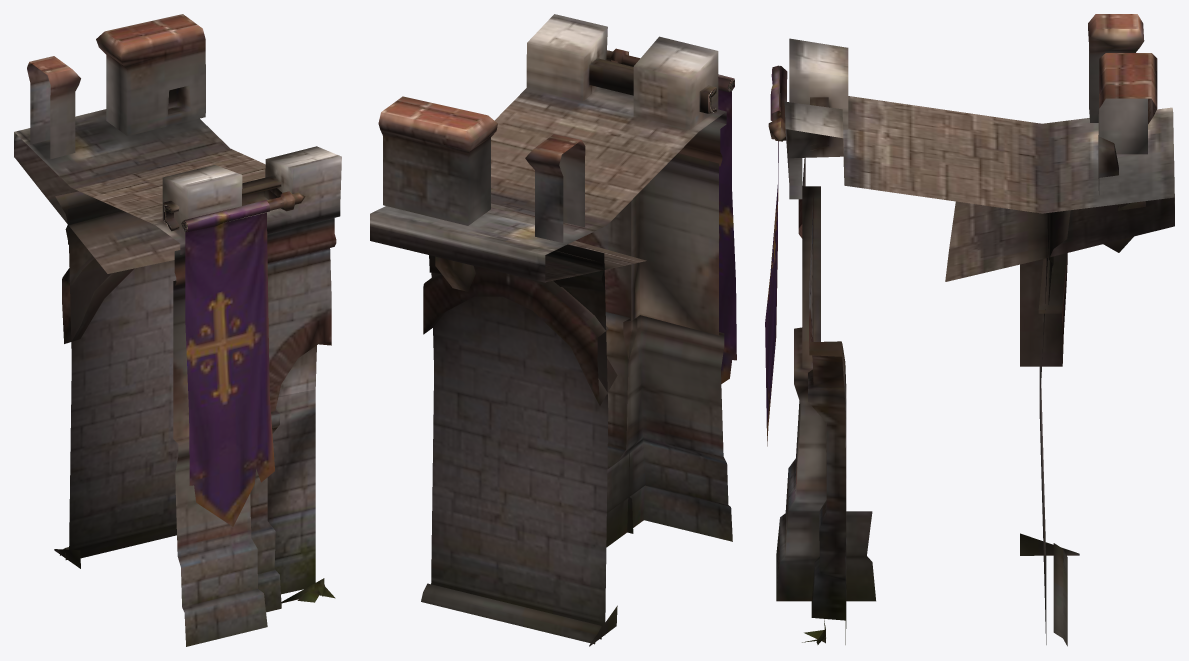
File: WallRunFront_37.fbx
3 views of the same model, side by side, from view 1: azimuth 30°, elevation 25°; view 2: azimuth 150°, elevation 25°; view 3: azimuth 270°, elevation 25° (orthographic). The views are drawn at different scales.
Visible parts, largest first — view 1: Imported wall section.025; view 2: Imported wall section.025; view 3: Imported wall section.025.
Boxes of the visible parts, box(x1,y1,x2,y2) form: Imported wall section.025: box(14, 14, 341, 646); Imported wall section.025: box(370, 14, 736, 646); Imported wall section.025: box(765, 14, 1174, 646).
Size of the model in its own units: 200 by 571 by 386.
Materials: 1 (1 with a texture image).
